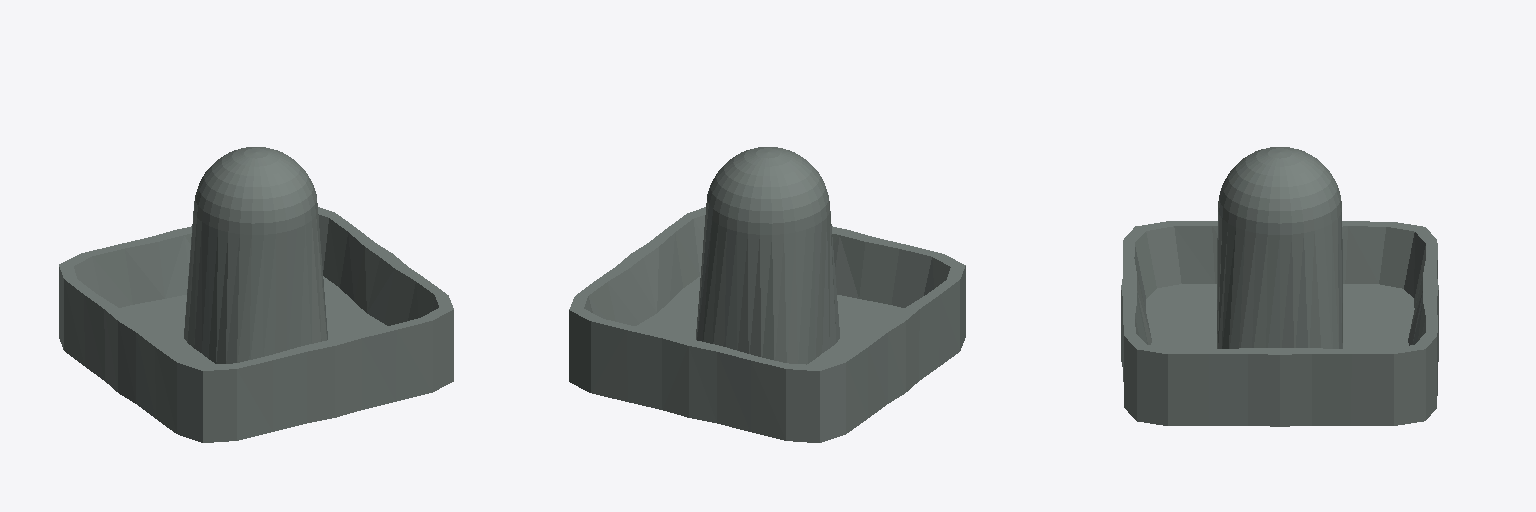
3 views of the same model, side by side, from view 1: azimuth 30°, elevation 25°; view 2: azimuth 150°, elevation 25°; view 3: azimuth 270°, elevation 25° (orthographic).
Parts seen in each view (by area): view 1: Mesh_Cylinder; view 2: Mesh_Cylinder; view 3: Mesh_Cylinder.
Part boxes in pixels (bbox=[...]): Mesh_Cylinder: bbox=[59, 147, 453, 442]; Mesh_Cylinder: bbox=[569, 147, 965, 442]; Mesh_Cylinder: bbox=[1121, 147, 1438, 426].
Size of the model in its own units: 2 by 1.44 by 2.
Materials: 1 (1 with a texture image).